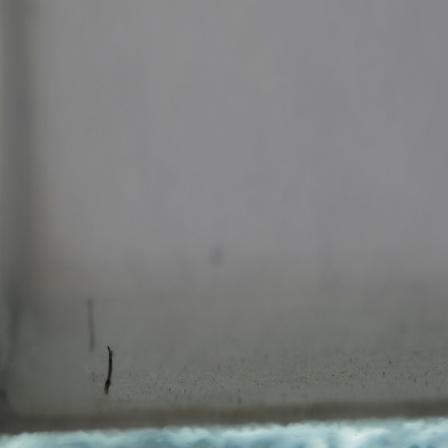Jentik-Nyamuk: (96, 338, 119, 397)
